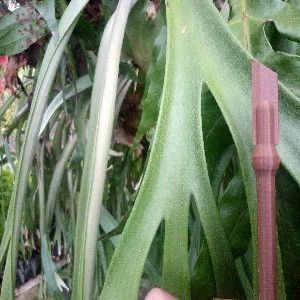cutter: (249, 57, 281, 300)
